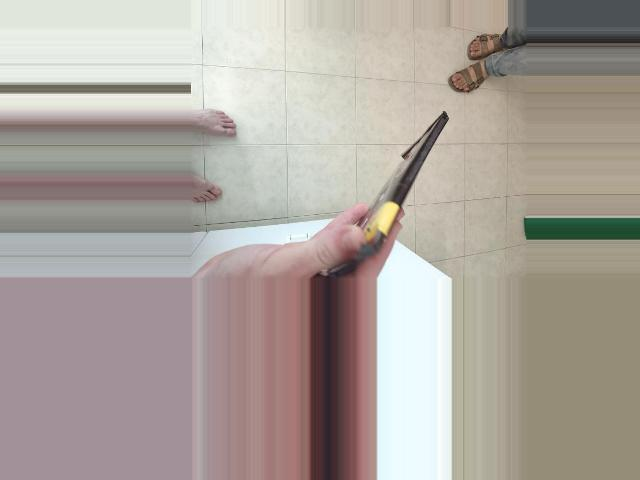chocolate: (328, 113, 446, 276)
